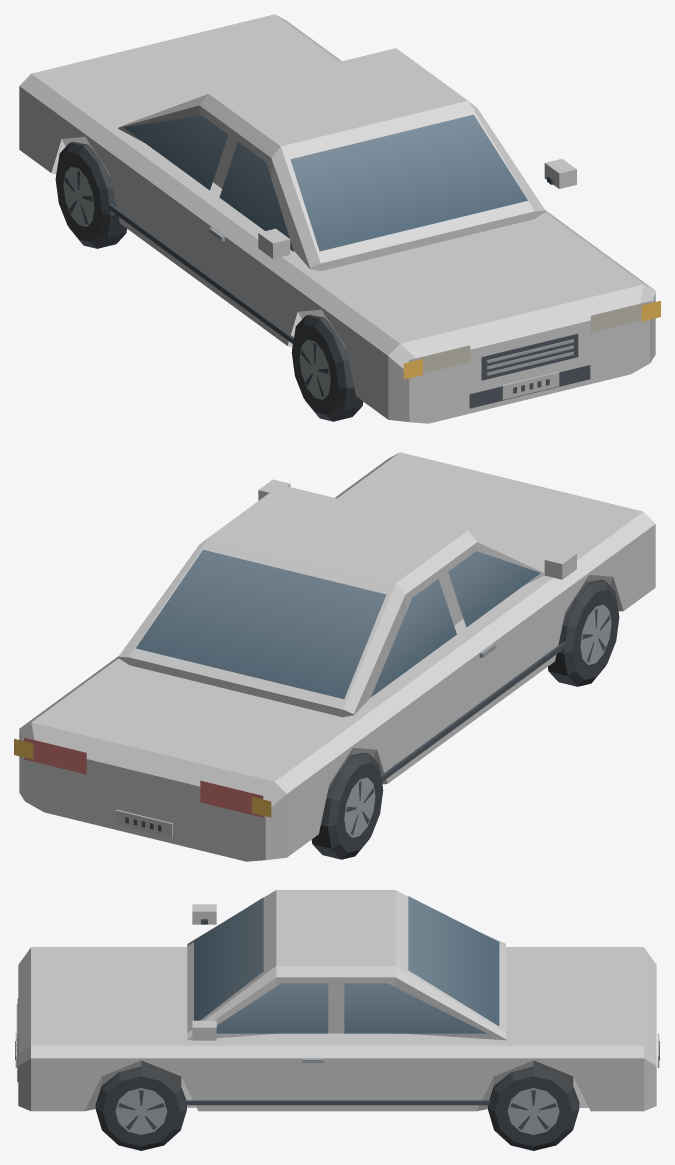
File: coupe.glb
The picture shows the model from 3 angles, top to bottom: view 1: azimuth 30°, elevation 25°; view 2: azimuth 150°, elevation 25°; view 3: azimuth 270°, elevation 25°; orthographic projection. The views are drawn at different scales.
Parts seen in each view (by area): view 1: body, wheel_1, wheel_3; view 2: body, wheel_3, wheel_1, brake_0, brake_1; view 3: body, wheel_2, wheel_0.
Boxes of the visible parts, box(x1,y1,x2,y2) form: body: box(19, 14, 655, 423); wheel_1: box(291, 314, 363, 421); wheel_3: box(55, 141, 126, 248); body: box(19, 452, 655, 861); wheel_3: box(311, 752, 383, 859); wheel_1: box(548, 579, 619, 686); brake_0: box(24, 737, 86, 774); brake_1: box(200, 780, 263, 817); body: box(15, 890, 659, 1111); wheel_2: box(488, 1066, 579, 1150); wheel_0: box(95, 1066, 186, 1150).
Bounding box in the file's own units: 2.05 × 1.3 × 4.54.
